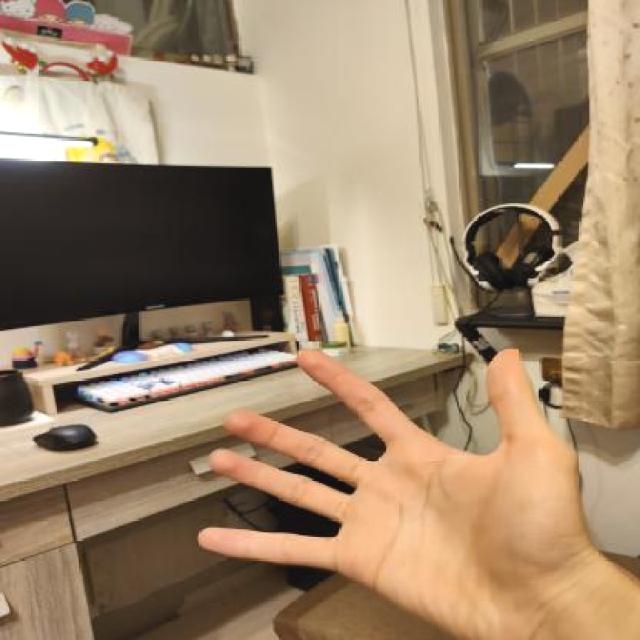no_glove: (177, 322, 628, 638)
